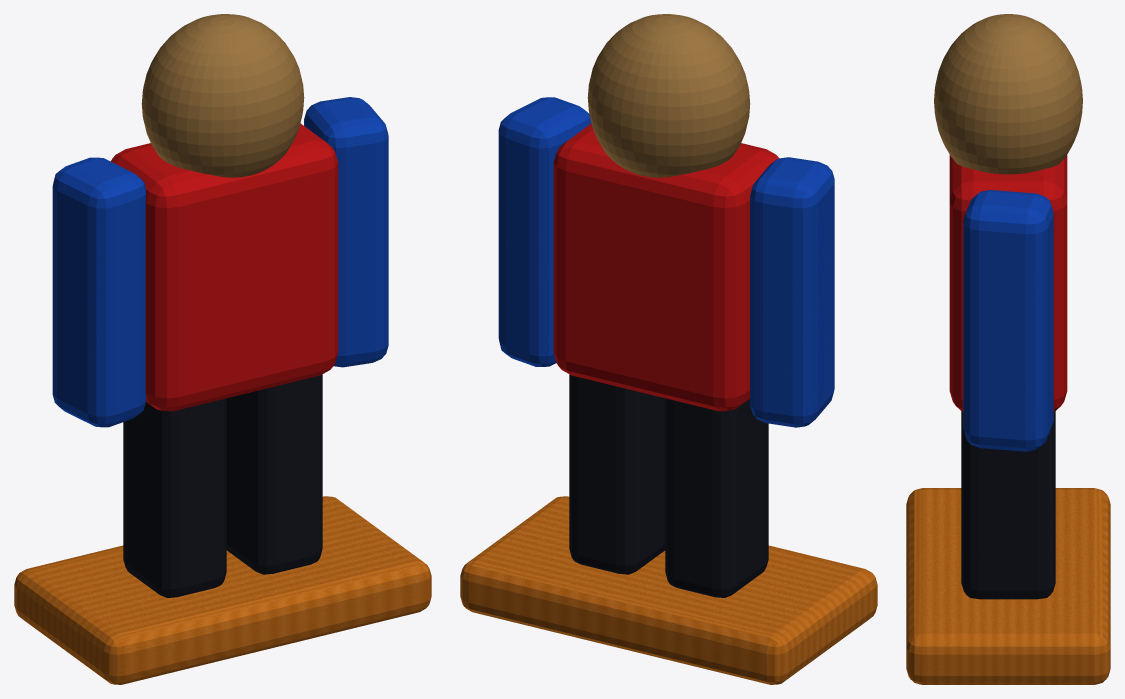
File: figurine-scellee.glb
The picture shows the model from 3 angles, left to right: view 1: azimuth 30°, elevation 25°; view 2: azimuth 150°, elevation 25°; view 3: azimuth 270°, elevation 25°; orthographic projection.
Visible parts, largest first — view 1: Torse, Socle, Bras, Tete, Jambe, Jambe.001, Bras.001; view 2: Torse, Socle, Bras, Tete, Jambe, Jambe.001, Bras.001; view 3: Socle, Bras.001, Tete, Jambe.001, Torse.
Part boxes in pixels (x1,y1,x2,y2): Torse: (110, 123, 338, 411); Socle: (14, 496, 431, 684); Bras: (52, 157, 145, 427); Tete: (141, 14, 304, 177); Jambe: (123, 398, 226, 597); Jambe.001: (226, 374, 322, 574); Bras.001: (304, 97, 388, 367); Torse: (553, 123, 779, 411); Socle: (460, 496, 877, 684); Bras: (750, 157, 834, 427); Tete: (587, 14, 750, 177); Jambe: (665, 398, 768, 597); Jambe.001: (569, 374, 665, 574); Bras.001: (498, 97, 591, 366); Socle: (906, 488, 1110, 684); Bras.001: (963, 190, 1053, 451); Tete: (934, 14, 1082, 174); Jambe.001: (961, 411, 1055, 599); Torse: (949, 155, 1067, 411).
Bounding box in the file's own units: 1.9 × 3.32 × 1.04.
5 materials, 5 textured.
